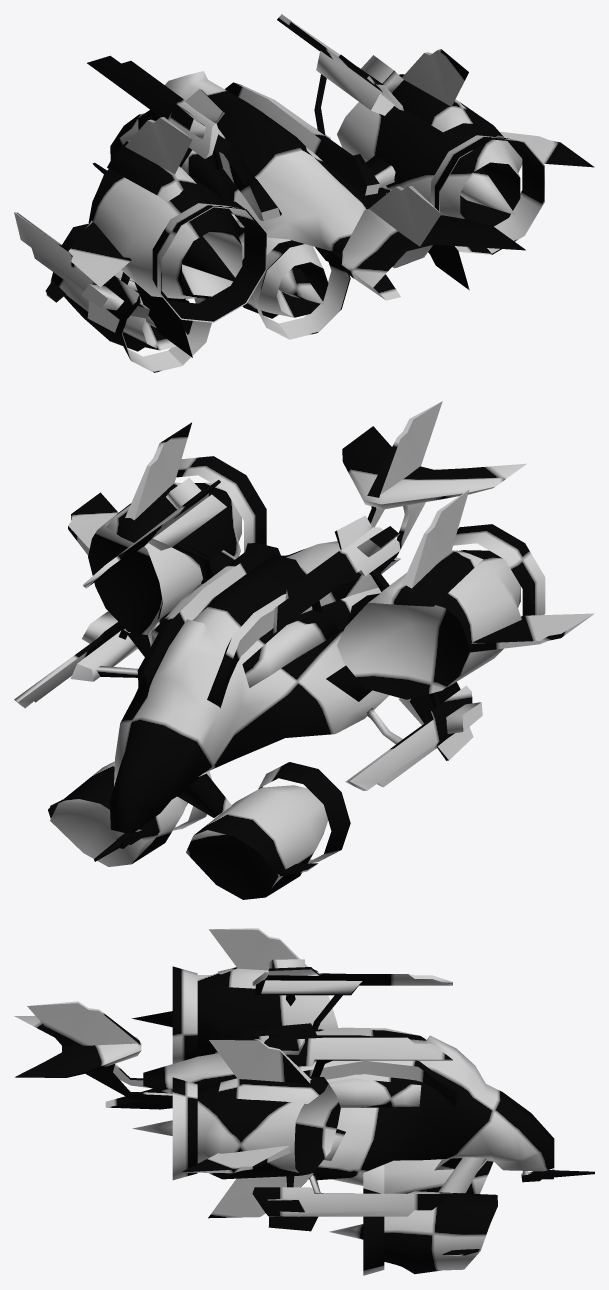
File: streunerr_boss.obj
3 views of the same model, one above another, from view 1: azimuth 30°, elevation 25°; view 2: azimuth 150°, elevation 25°; view 3: azimuth 270°, elevation 25° (orthographic). The views are drawn at different scales.
Visible parts, largest first — view 1: streunerr_boss; view 2: streunerr_boss; view 3: streunerr_boss.
Part boxes in pixels (<box>): streunerr_boss: <box>14,14,594,372</box>; streunerr_boss: <box>14,401,594,899</box>; streunerr_boss: <box>14,928,594,1275</box>.
Size of the model in its own units: 127 by 79.01 by 158.
1 material, 1 textured.
